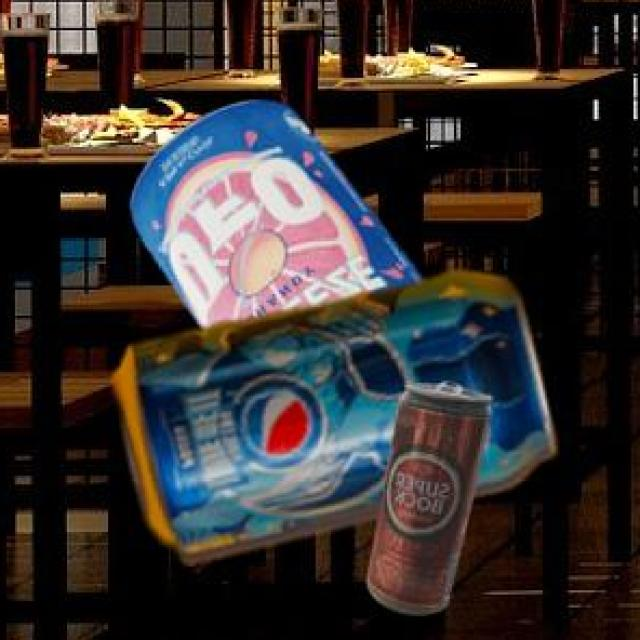logam: (118, 267, 557, 559), (135, 96, 427, 328), (371, 382, 494, 611)
